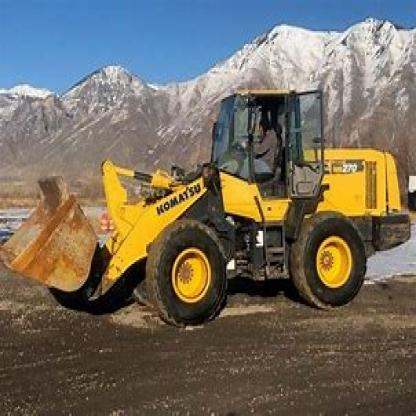bull_dozer/loader/grader: (1, 75, 414, 337)
